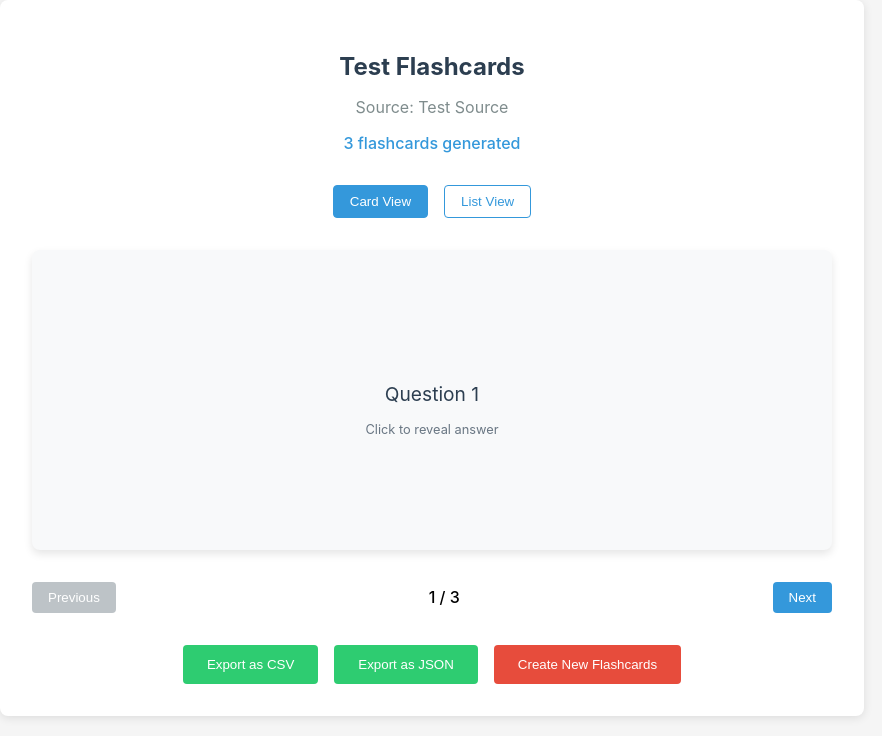
Test: FlashcardViewer Component › navigates to previous card
Click the button "Next" at (802, 597), box [773,582,832,613]
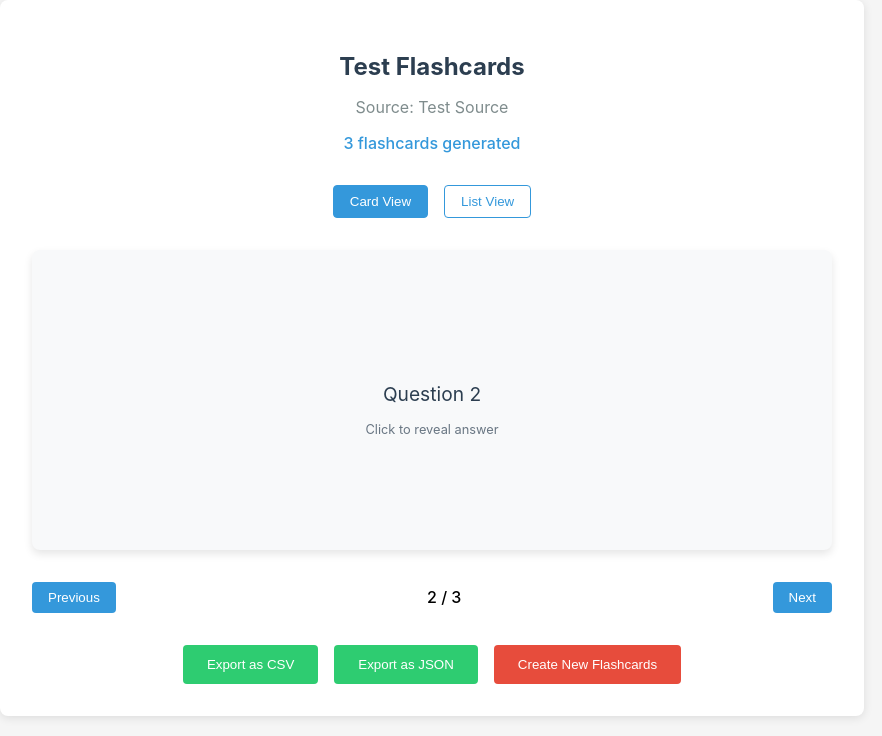
Click the button "Previous" at (74, 597), box [32,582,116,613]
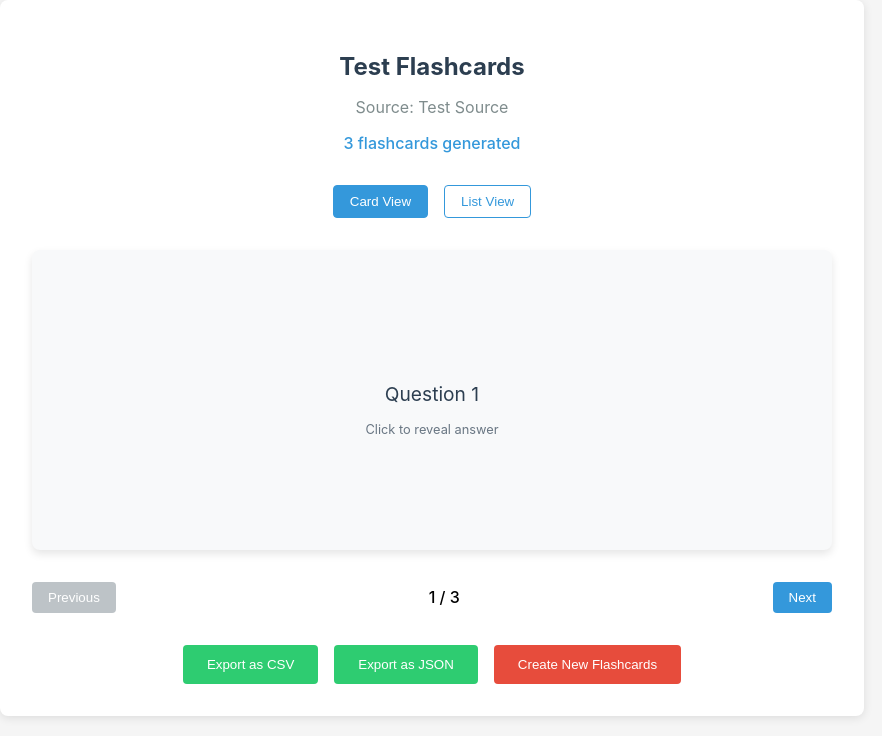
expect the text "Question 1" is shown: met, box [385,382,479,406]
expect the text "Question 2" is gone: met
